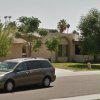Car: (1, 48, 55, 93)
